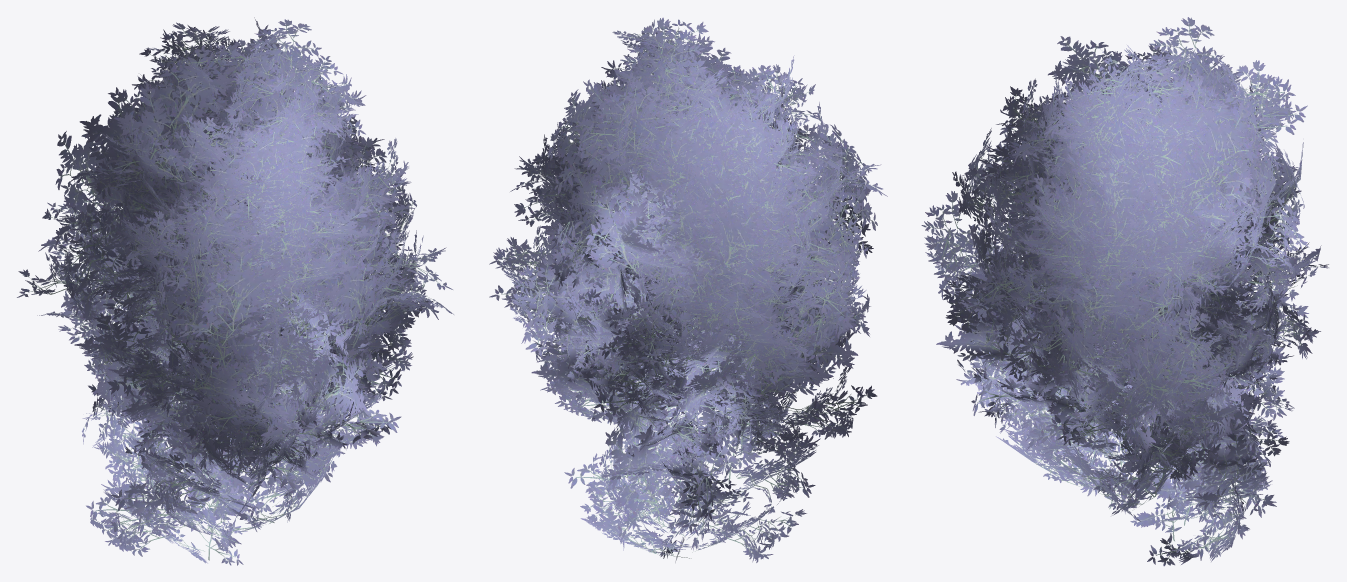
3 renders of one model, left to right at view 1: azimuth 30°, elevation 25°; view 2: azimuth 150°, elevation 25°; view 3: azimuth 270°, elevation 25°, orthographic. The views are drawn at different scales.
Parts seen in each view (by area): view 1: SM_FH_Ash_Canopy_03_LOD0; view 2: SM_FH_Ash_Canopy_03_LOD0; view 3: SM_FH_Ash_Canopy_03_LOD0.
Boxes of the visible parts, bbox=[...] form: SM_FH_Ash_Canopy_03_LOD0: bbox=[17, 17, 453, 565]; SM_FH_Ash_Canopy_03_LOD0: bbox=[489, 17, 887, 562]; SM_FH_Ash_Canopy_03_LOD0: bbox=[921, 17, 1328, 566].
Bounding box in the file's own units: 8.71 × 11.78 × 8.16.
1 material, 1 textured.
